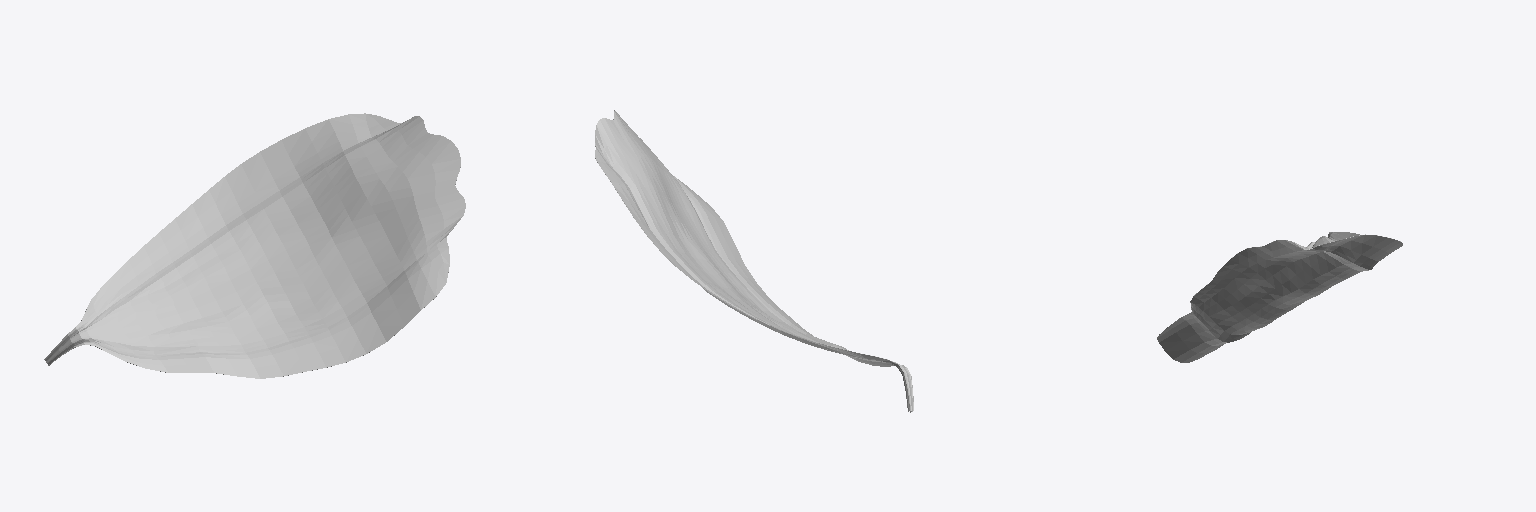
Rendered from petal1.obj.
3 views of the same model, side by side, from view 1: azimuth 30°, elevation 25°; view 2: azimuth 150°, elevation 25°; view 3: azimuth 270°, elevation 25° (orthographic).
Parts seen in each view (by area): view 1: facb_petal_1; view 2: facb_petal_1; view 3: facb_petal_1.
Boxes of the visible parts, box(x1,y1,x2,y2) form: facb_petal_1: box(44, 113, 465, 378); facb_petal_1: box(595, 110, 913, 412); facb_petal_1: box(1157, 232, 1402, 362).
Size of the model in its own units: 2.03 by 1.07 by 1.23.